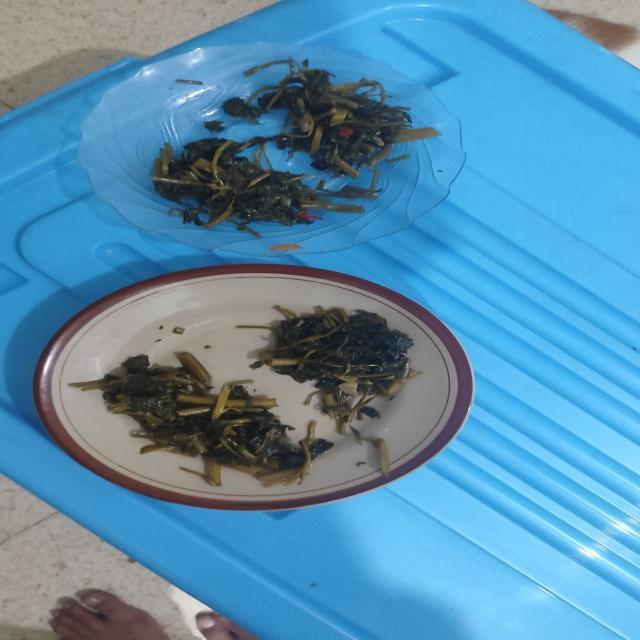tumis_kangkung: (74, 352, 333, 487), (224, 59, 412, 178), (250, 306, 414, 434), (154, 138, 328, 237)
